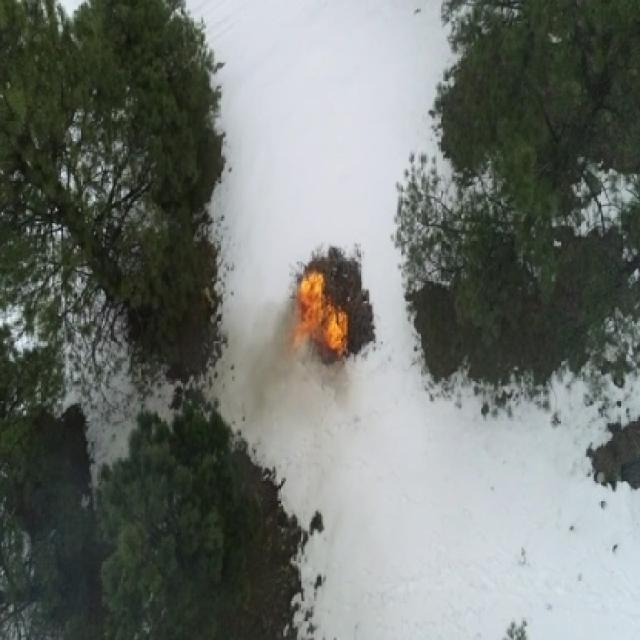Fire: (292, 269, 329, 342), (316, 306, 349, 359)
